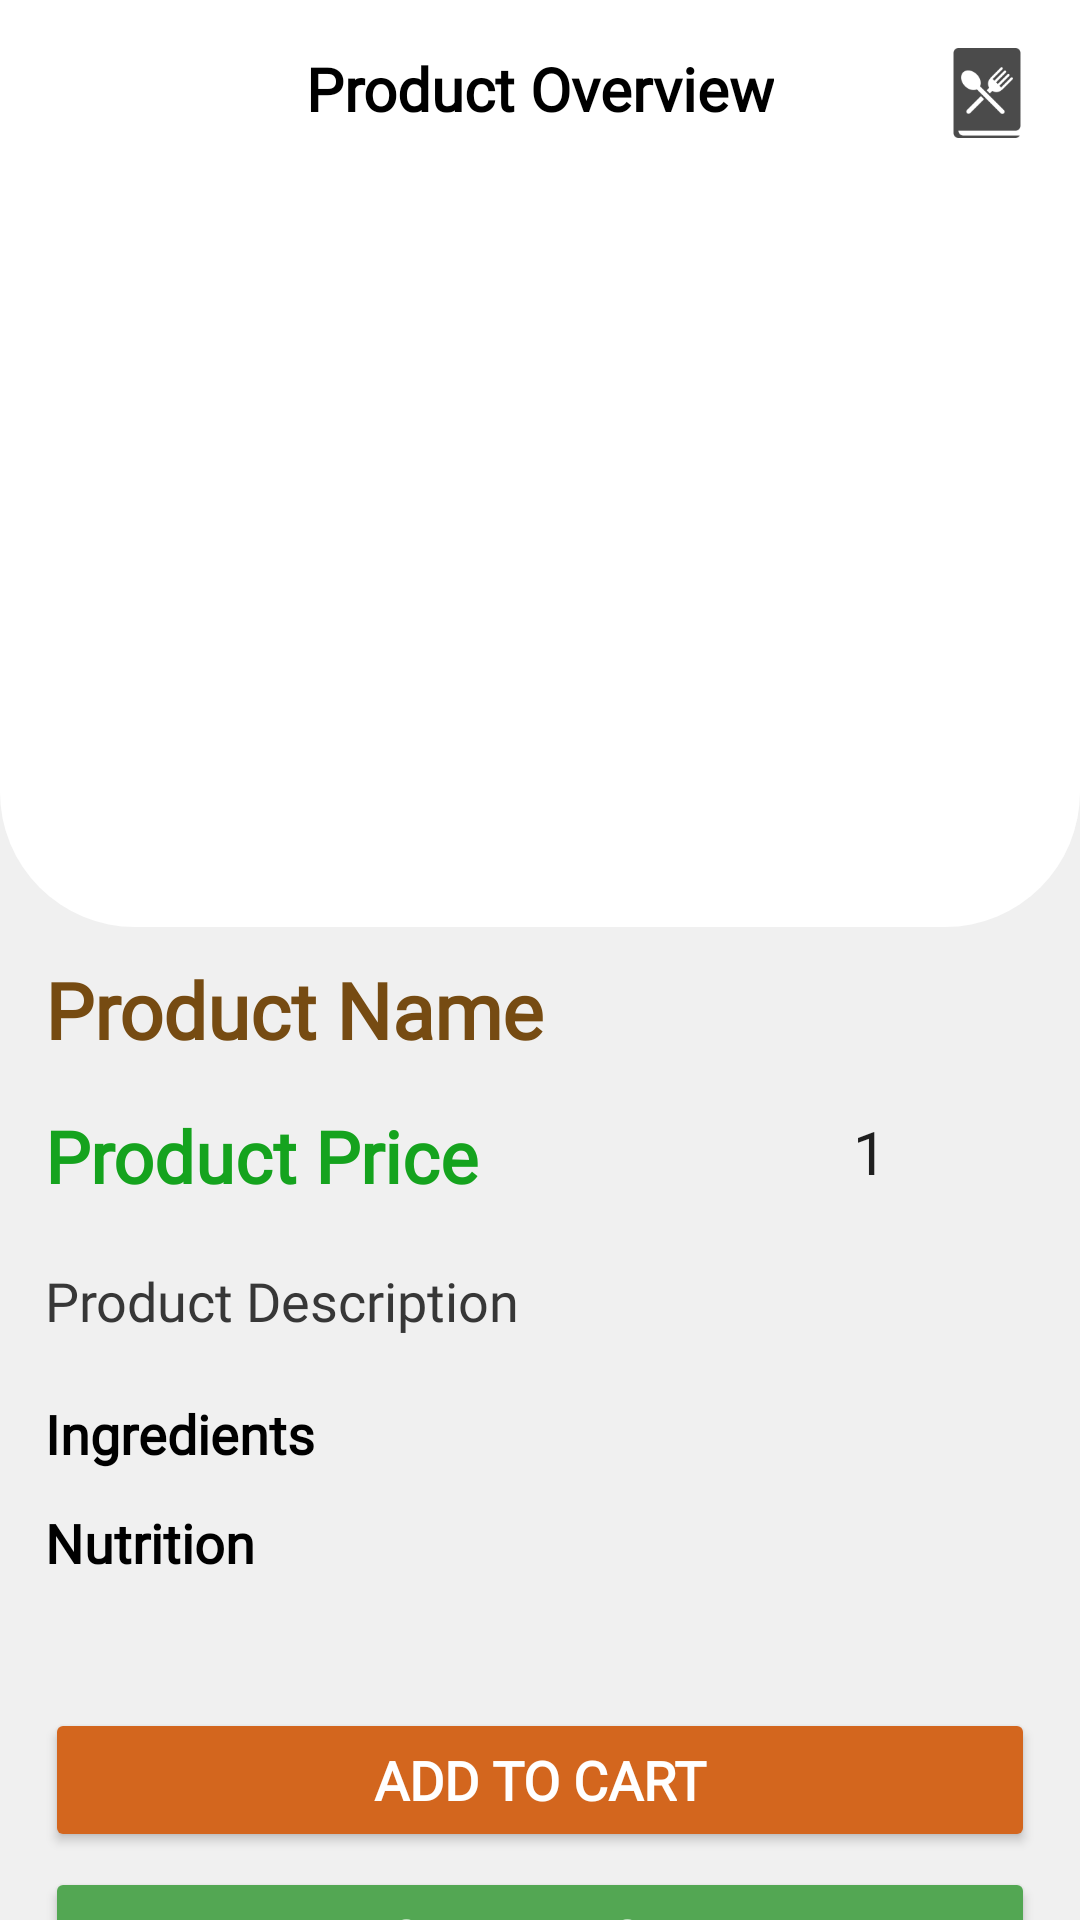

Locate icon controls on the screen. Image size 1080×1920, boxes as (x1, y1, x2, y2).
recipe: (953, 48, 1021, 138)
